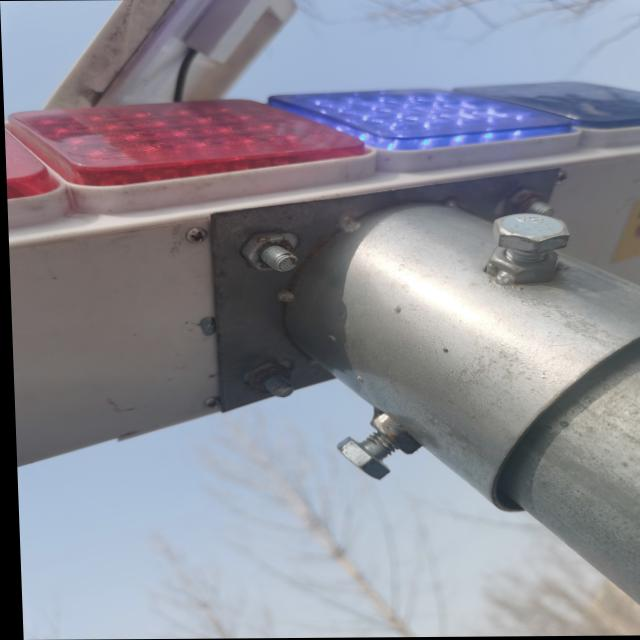Loose bolt: (321, 425, 413, 502), (480, 205, 570, 280)
Regular bolt: (491, 214, 570, 256), (332, 438, 390, 482), (239, 233, 300, 273)
Rusty bolt: (248, 363, 294, 399)
